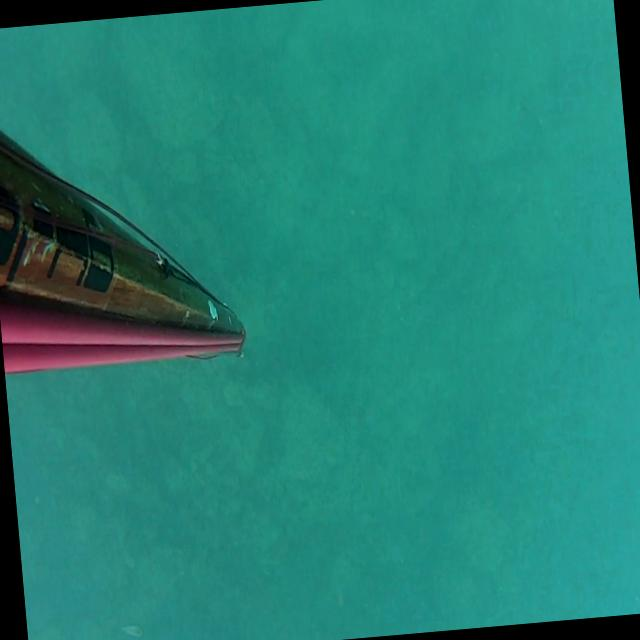Balon Baligi: (118, 623, 142, 638)
